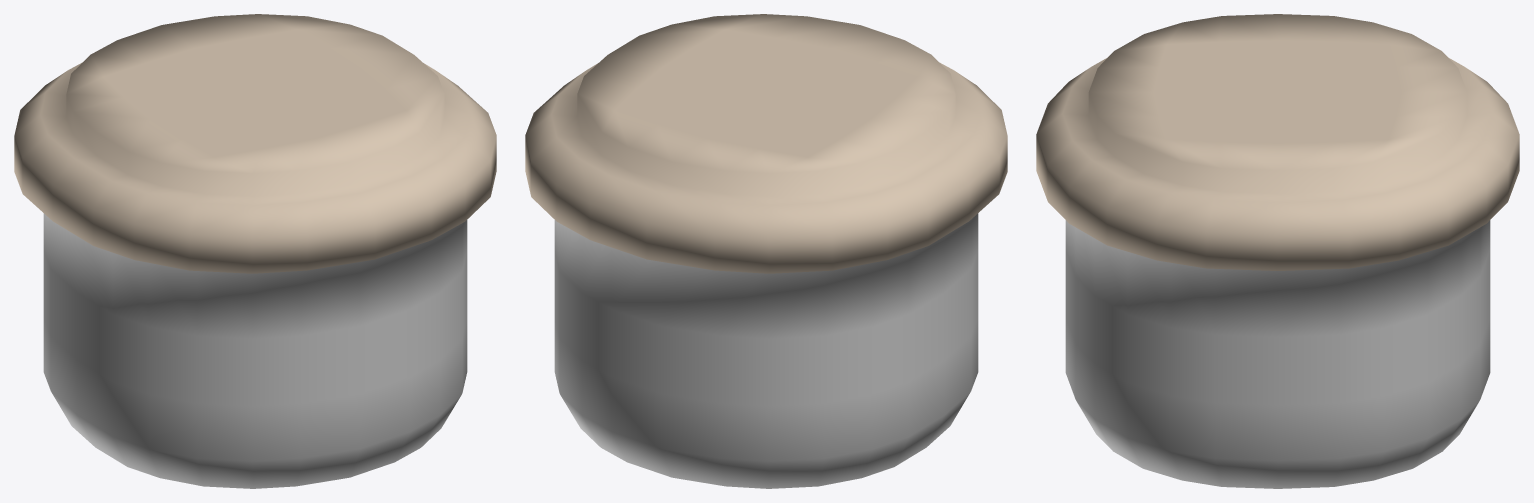
Rendered from Om Nom Bomb.fbx.
3 renders of one model, left to right at view 1: azimuth 30°, elevation 25°; view 2: azimuth 150°, elevation 25°; view 3: azimuth 270°, elevation 25°, orthographic.
Parts seen in each view (by area): view 1: Cube; view 2: Cube; view 3: Cube.
Part boxes in pixels (bbox=[...]): Cube: bbox=[14, 14, 496, 488]; Cube: bbox=[525, 14, 1007, 488]; Cube: bbox=[1036, 14, 1519, 488].
Size of the model in its own units: 233 by 173 by 239.
